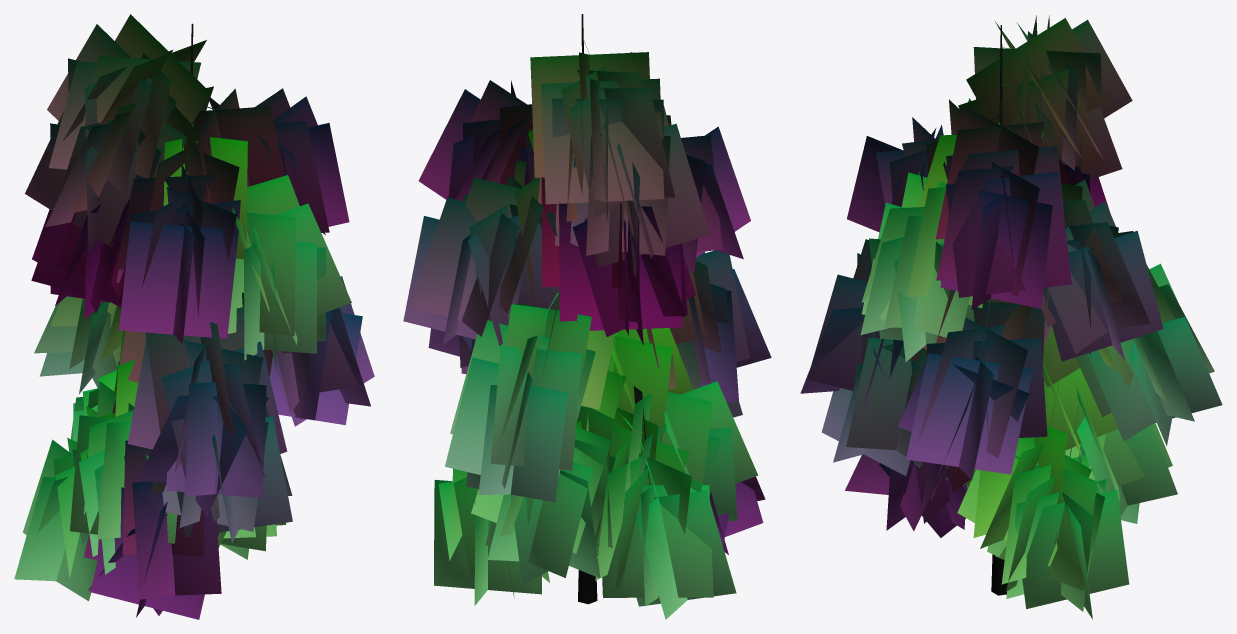
The model's file is URP_P13_Tree_2_LOD_3.fbx.
3 views of the same model, side by side, from view 1: azimuth 30°, elevation 25°; view 2: azimuth 150°, elevation 25°; view 3: azimuth 270°, elevation 25° (orthographic). The views are drawn at different scales.
Visible parts, largest first — view 1: Tree_2_LOD_3; view 2: Tree_2_LOD_3; view 3: Tree_2_LOD_3.
Part boxes in pixels (<box>): Tree_2_LOD_3: <box>14,14,374,619</box>; Tree_2_LOD_3: <box>403,14,771,619</box>; Tree_2_LOD_3: <box>800,15,1222,619</box>.
Bounding box in the file's own units: 362 × 602 × 405.
